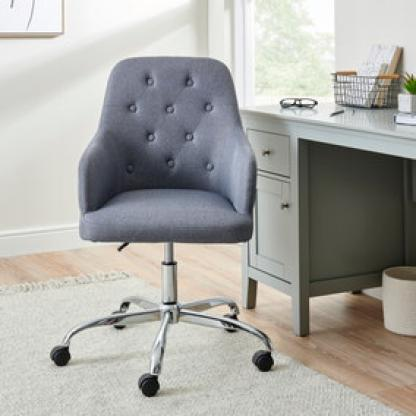chair: (45, 53, 278, 402)
table: (238, 86, 416, 343)
